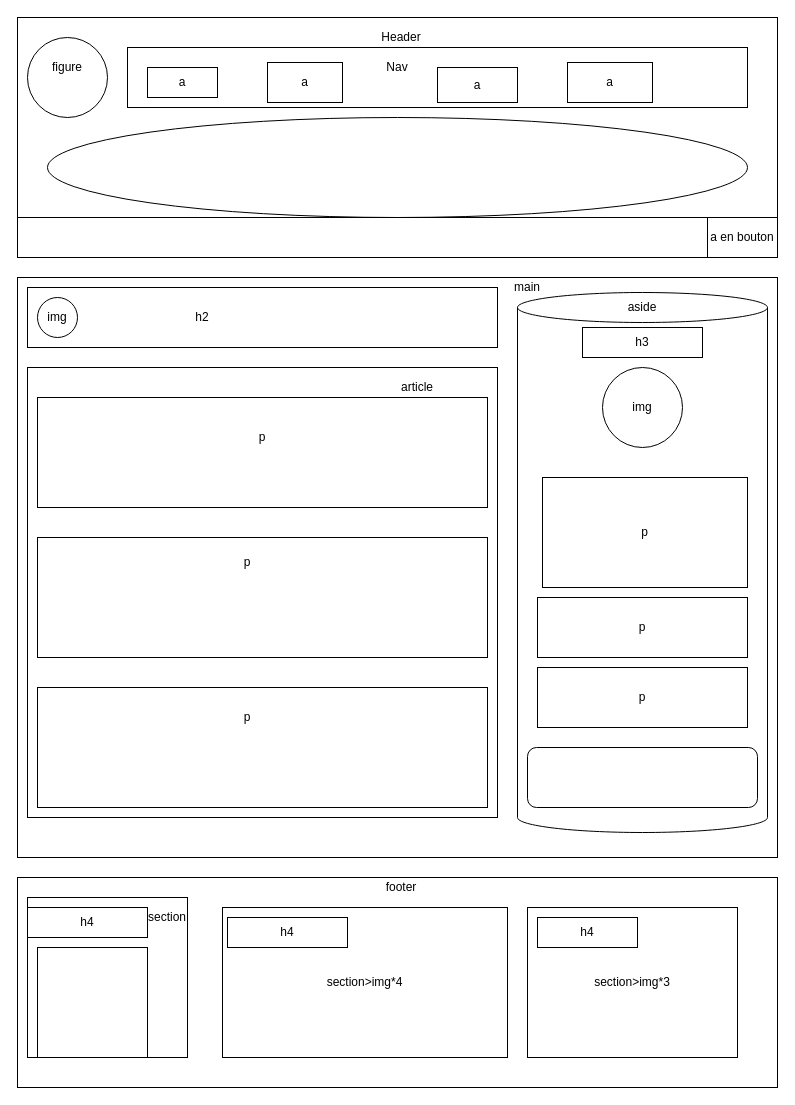
Image size: 795x1105. Some labels were removed from this diagram. The shapes that lost their labels are listed below. From the top down, each one's centre as x and y in pixels, then its label:
(397,167): img ou figure pour la banner
(362,237): figcaption
(642,777): favicon*5
(92,1002): form
